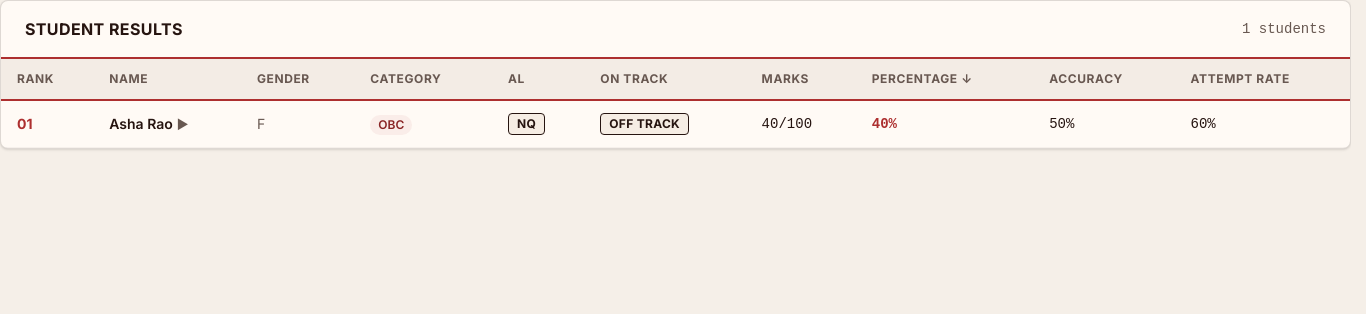
Test: StudentResultsTable › fetches question detail once on first student expand and drills down to question level (0-based index -> Q1)
This screenshot has width=1366, height=314.
Click the text "Asha Rao". click: {"x": 167, "y": 124}
box: [93, 100, 241, 148]
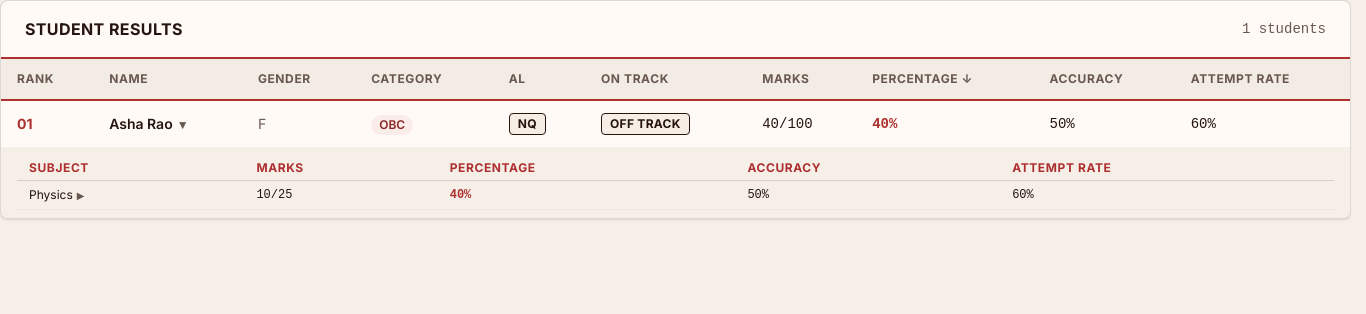
Click the text "Physics". click: {"x": 51, "y": 194}
box: [17, 180, 244, 210]
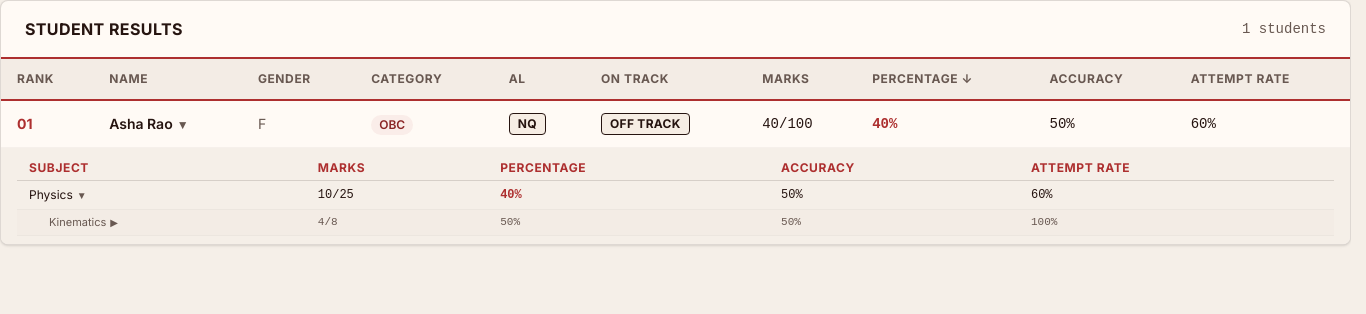
Click the text "Kinematics". click: {"x": 78, "y": 222}
box: [17, 210, 306, 235]
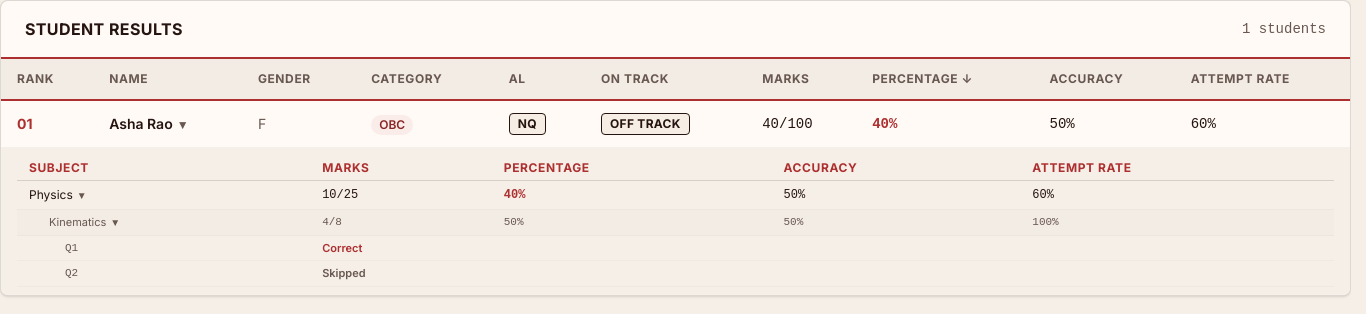
Expected: the text "Q1" is shown, [17, 235, 310, 260]
Expected: the text "Q2" is shown, [17, 260, 310, 286]
Expected: the text "Correct" is shown, [310, 235, 1334, 260]
